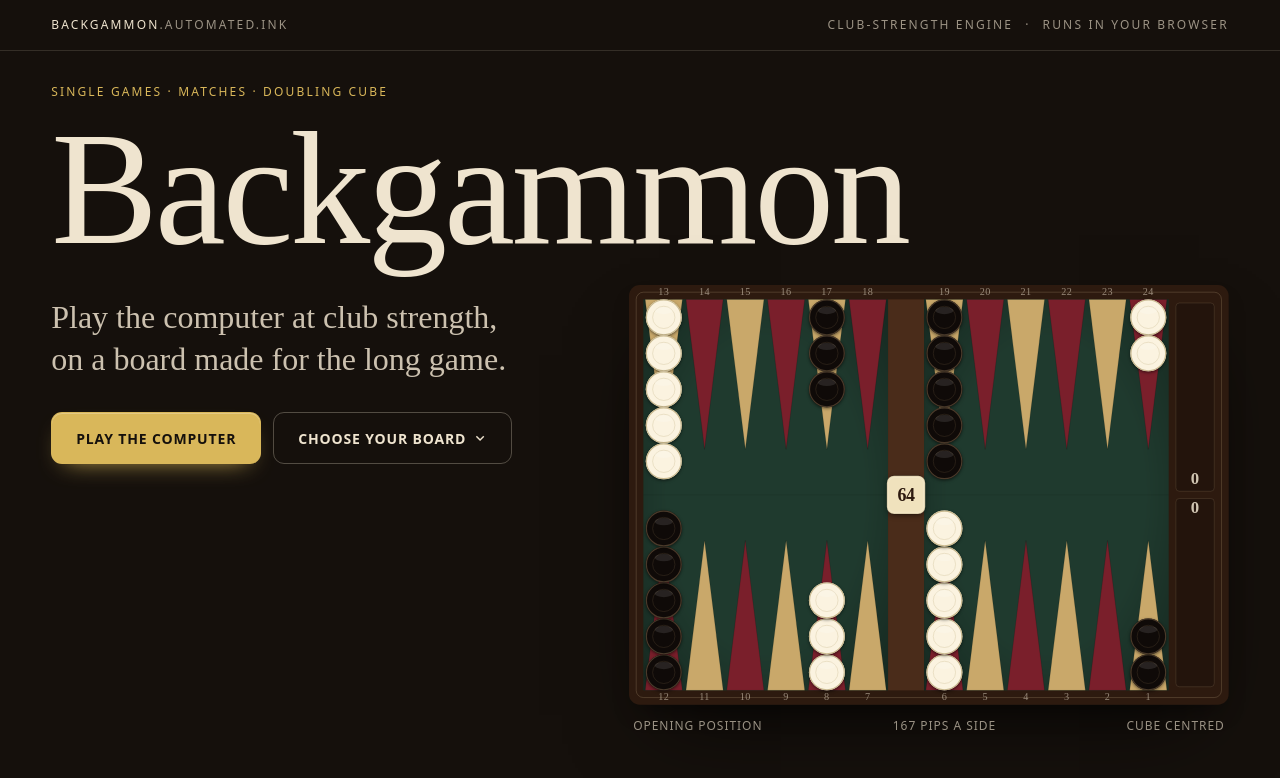
<Landing> › reveals the three board previews from 'Choose your board'
Click the button "Choose your board ⌄" at (392, 438), box [273,412,512,464]
(page scrolled)
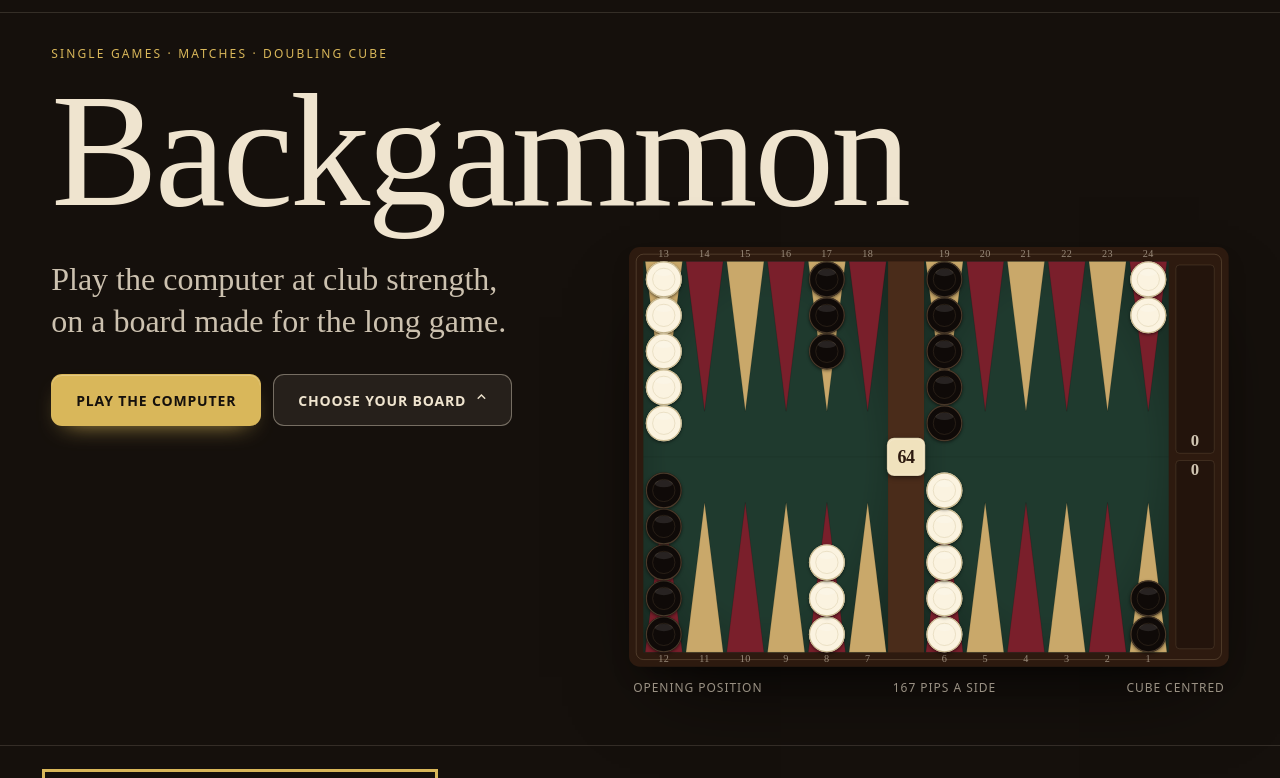
Check: the button "Choose your board ⌄" is expanded, box [273,374,512,426]
